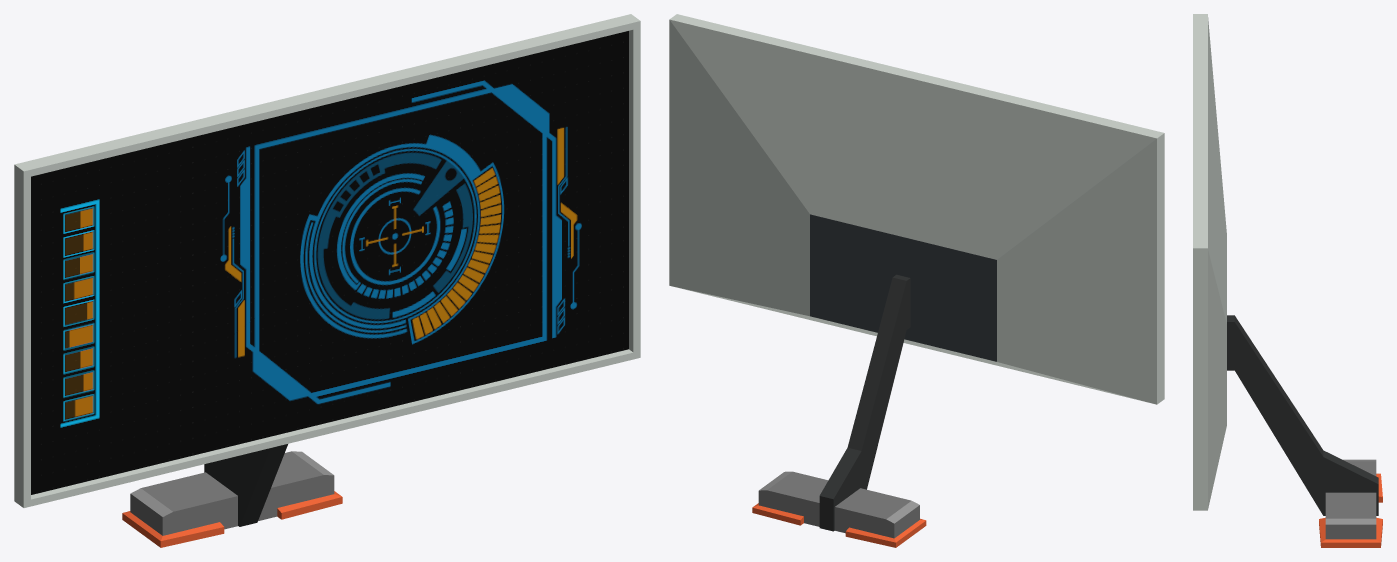
Rendered from Monitor_01.glb.
The picture shows the model from 3 angles, left to right: view 1: azimuth 30°, elevation 25°; view 2: azimuth 150°, elevation 25°; view 3: azimuth 270°, elevation 25°; orthographic projection. The views are drawn at different scales.
Parts seen in each view (by area): view 1: Monitor_01; view 2: Monitor_01; view 3: Monitor_01.
Part boxes in pixels (x1,y1,x2,y2): Monitor_01: [14, 14, 640, 547]; Monitor_01: [669, 14, 1164, 547]; Monitor_01: [1193, 14, 1382, 547].
Size of what is drawn, in the model's own units: 0.8899 by 0.6756 by 0.3047.
Materials: 2 (2 with a texture image).
